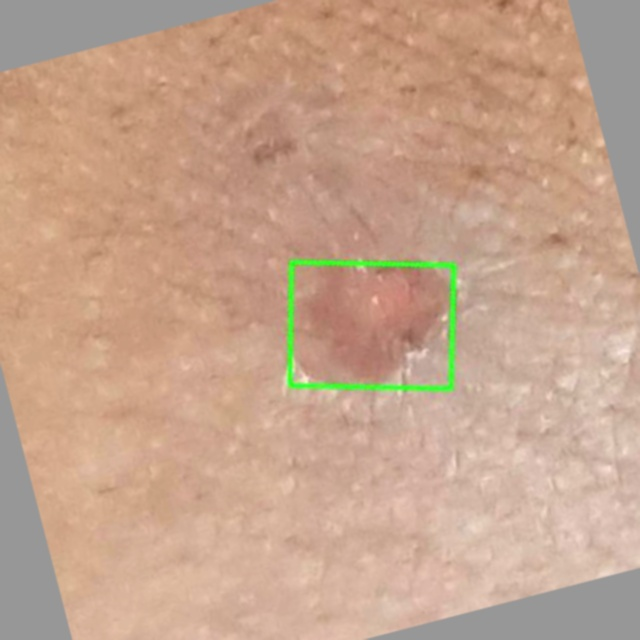Atopic Dermatitis: (289, 261, 454, 387)
